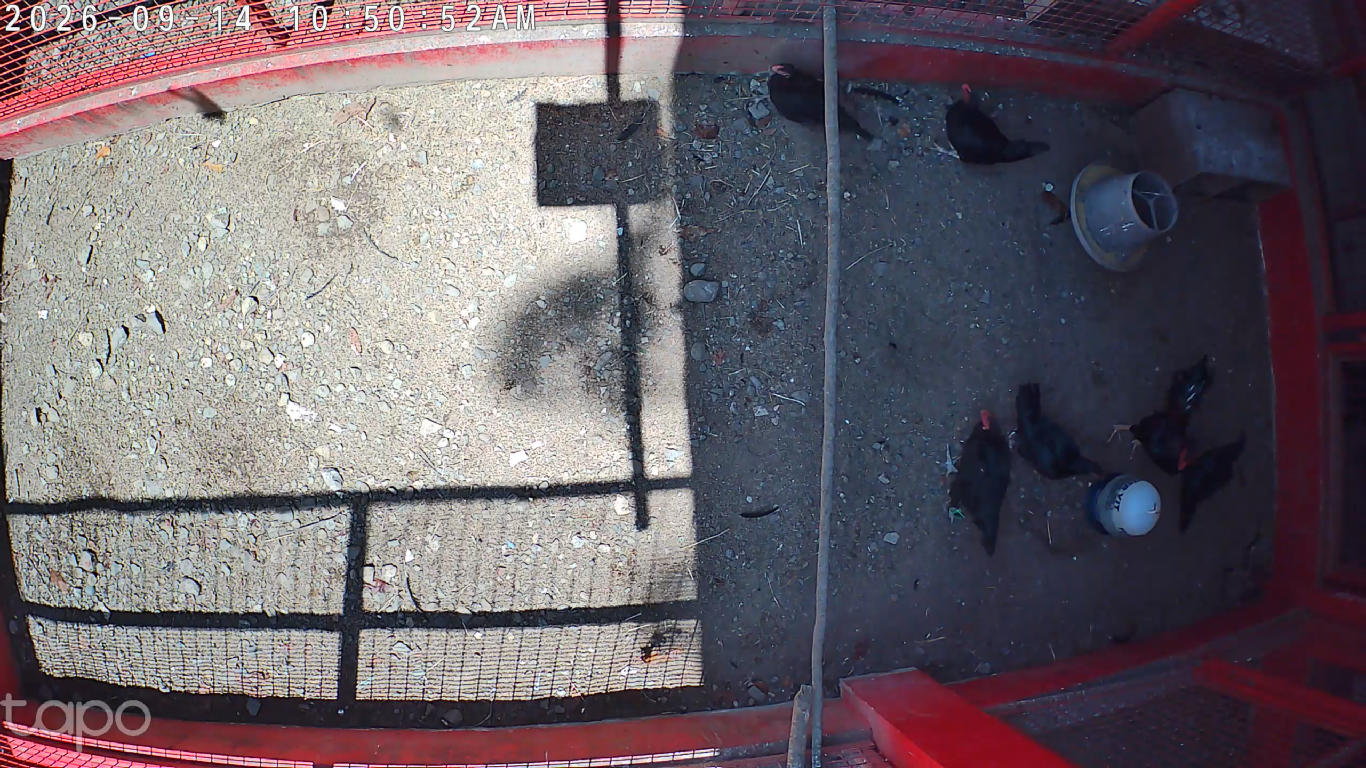Chicken: (933, 404, 1014, 559), (920, 79, 1051, 174), (1005, 379, 1111, 490), (764, 58, 877, 147), (1171, 434, 1249, 538)
Feeder: (1071, 159, 1181, 275)
Rooster: (1106, 358, 1217, 478)
